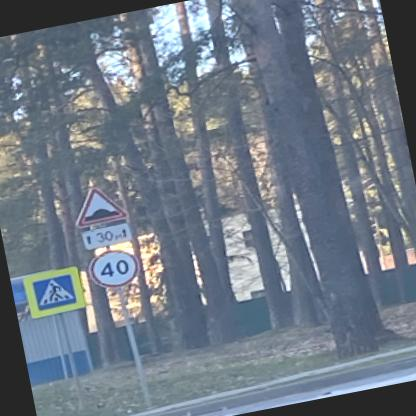crosswalk: (29, 274, 75, 310)
speedlimit: (84, 245, 140, 292)
